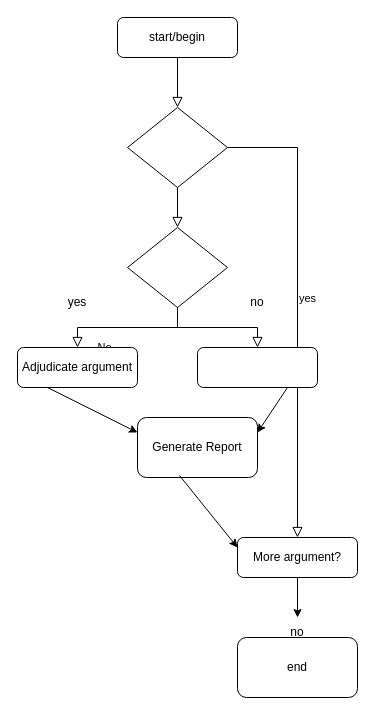
Image size: 375x715. Some labels were removed from this diagram. The box of each missing label's shape, as (x1, y1, x2, y2) in pixels:
read argument: (126, 106, 228, 188)
reject argument: (196, 346, 318, 388)
valid claim: (126, 226, 228, 308)
